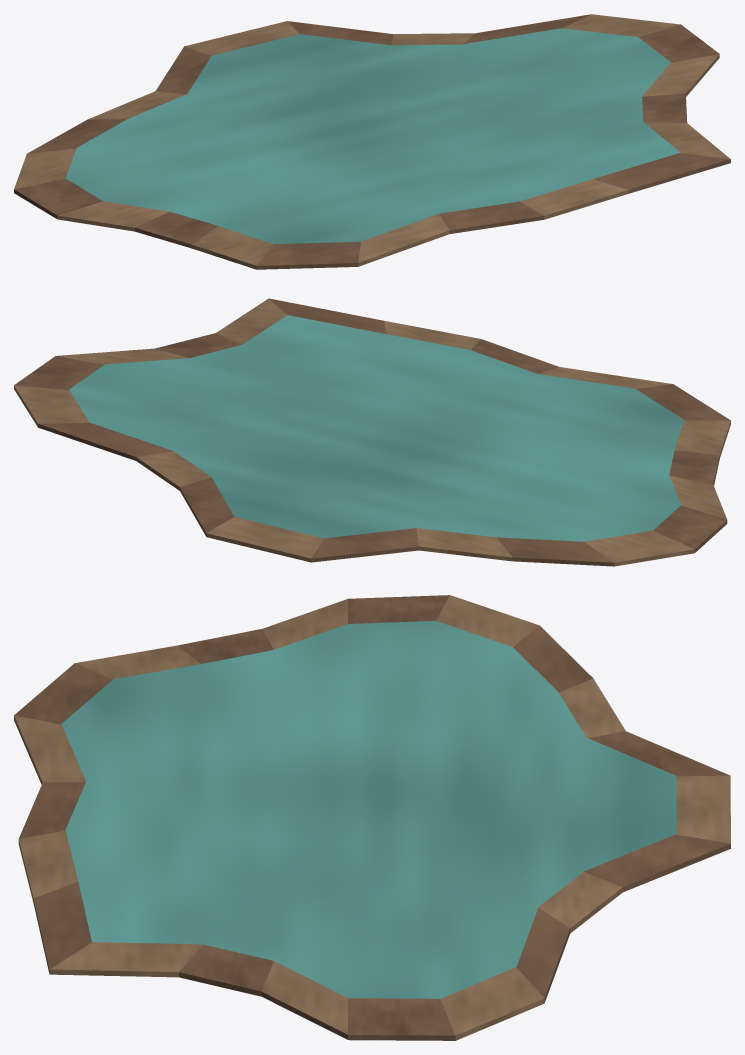
Rendered from puddle_04.fbx.
3 views of the same model, one above another, from view 1: azimuth 30°, elevation 25°; view 2: azimuth 150°, elevation 25°; view 3: azimuth 270°, elevation 25° (orthographic). The views are drawn at different scales.
Visible parts, largest first — view 1: puddle_04; view 2: puddle_04; view 3: puddle_04.
Part boxes in pixels (x1,y1,x2,y2): puddle_04: [14, 14, 730, 269]; puddle_04: [14, 298, 730, 566]; puddle_04: [14, 595, 730, 1040].
Size of the model in its own units: 333 by 3.5 by 229.
2 materials, 2 textured.
